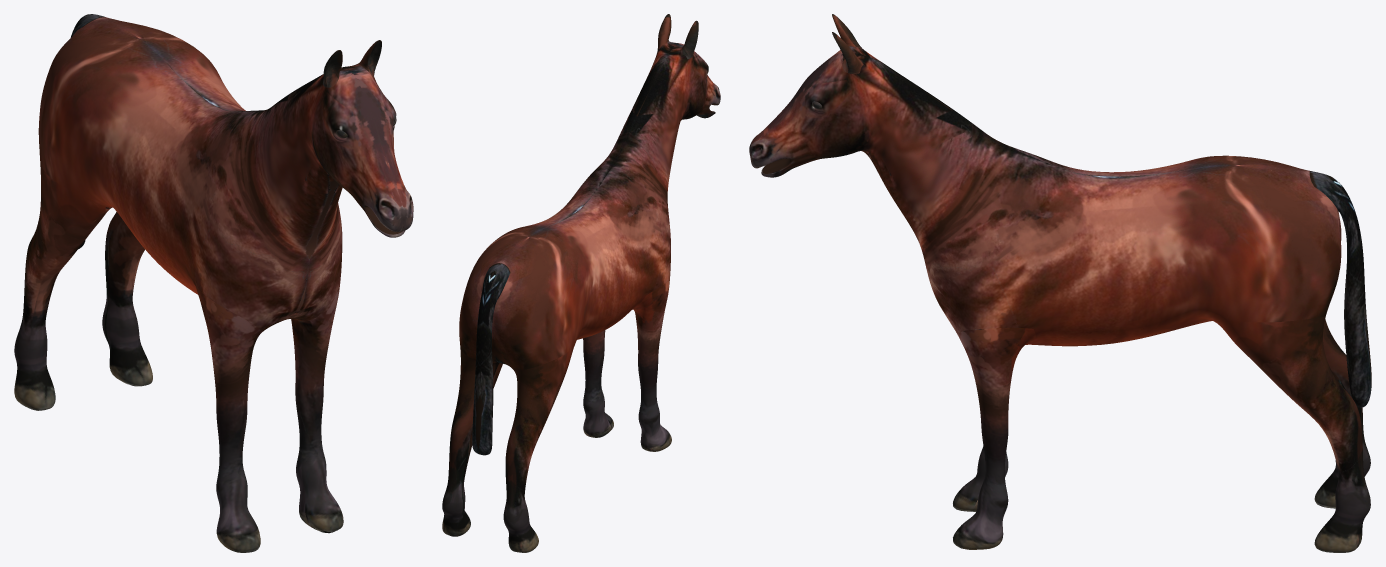
Rendered from caballo.glb.
3 renders of one model, left to right at view 1: azimuth 30°, elevation 25°; view 2: azimuth 150°, elevation 25°; view 3: azimuth 270°, elevation 25°, orthographic. The views are drawn at different scales.
Visible parts, largest first — view 1: 10026_Horse_v01-it2.003; view 2: 10026_Horse_v01-it2.003; view 3: 10026_Horse_v01-it2.003.
Boxes of the visible parts, x1,y1,x2,y2 form: 10026_Horse_v01-it2.003: (14, 14, 413, 552); 10026_Horse_v01-it2.003: (442, 14, 720, 552); 10026_Horse_v01-it2.003: (749, 14, 1371, 552).
Bounding box in the file's own units: 3.21 × 12.04 × 13.48.
Materials: 1 (1 with a texture image).
